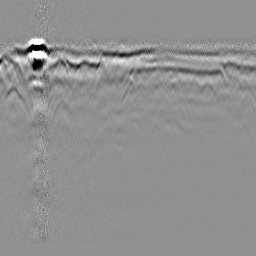cavity: (120, 70, 136, 94)
